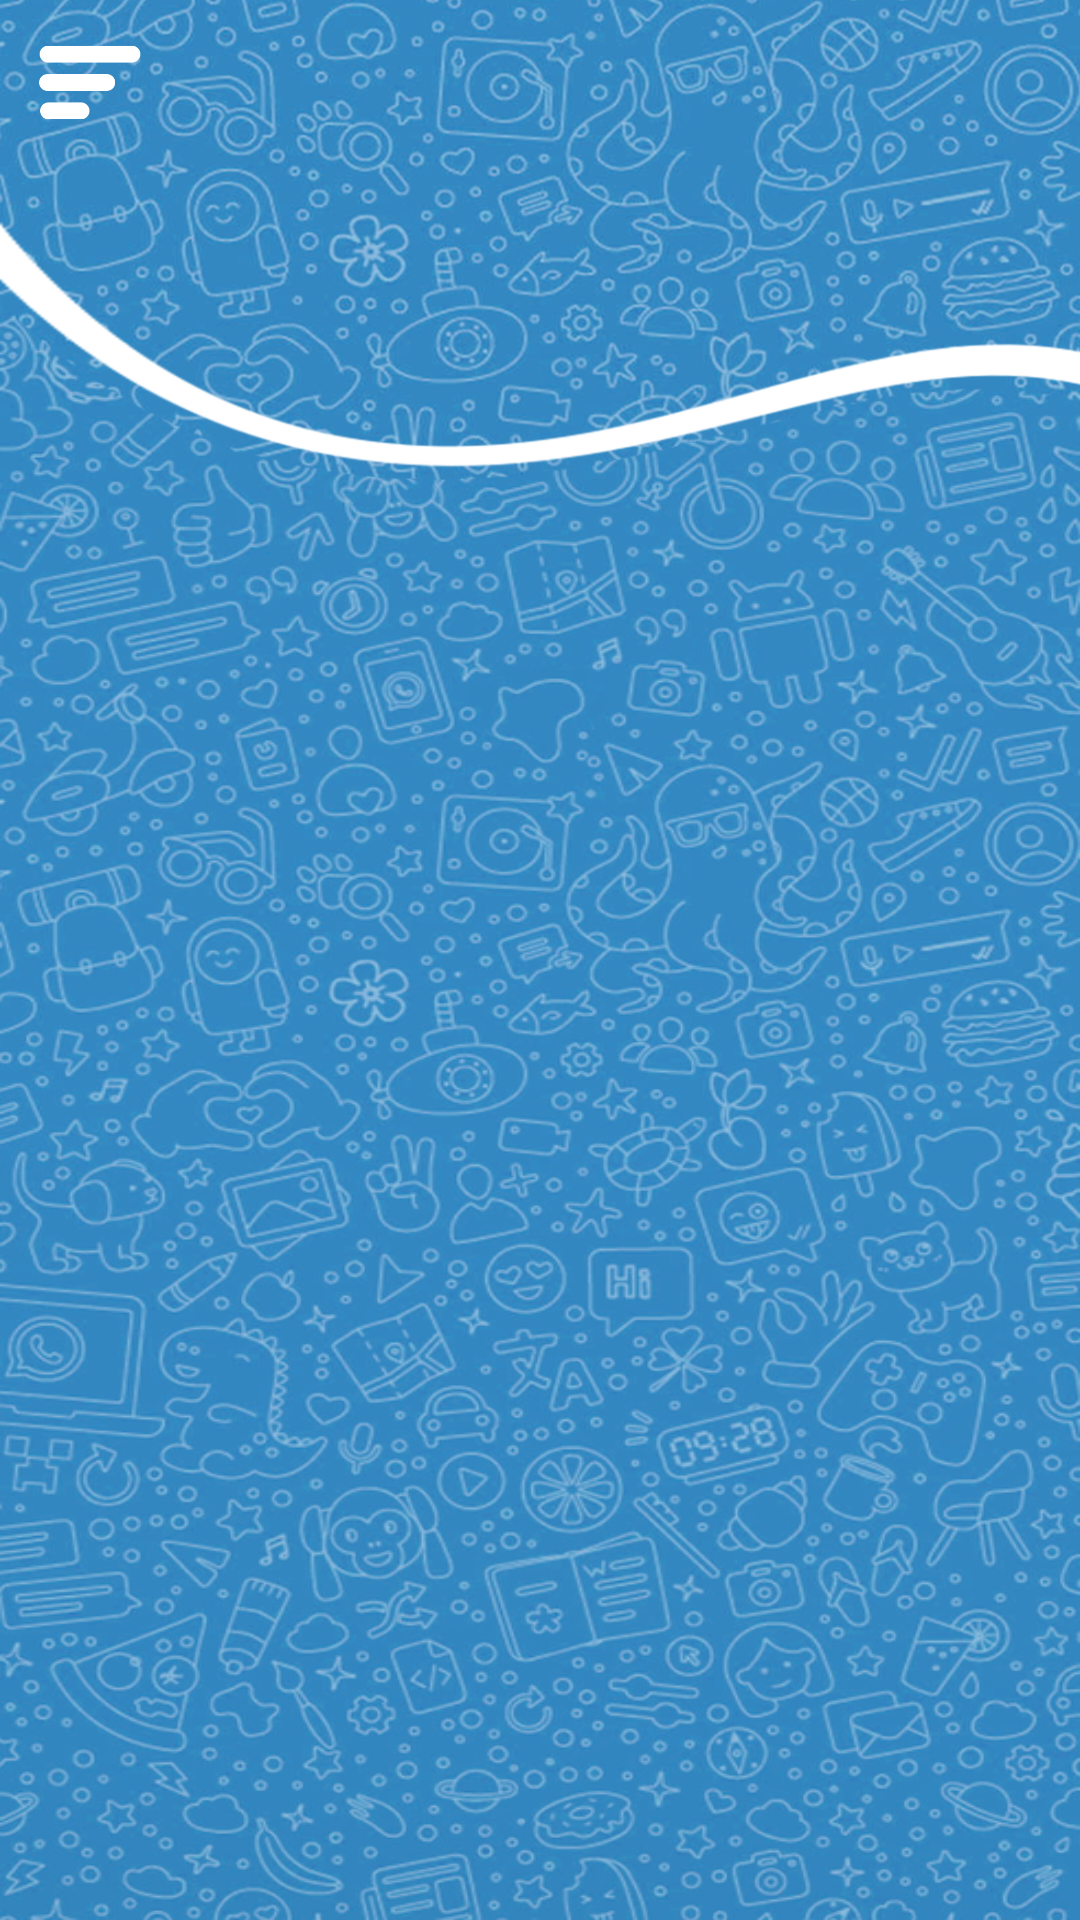

Icon bounding boxes for this 1080×1920 phone screenshot, format (x1, y1, x2, y2):
drawer: (30, 30, 150, 135)
